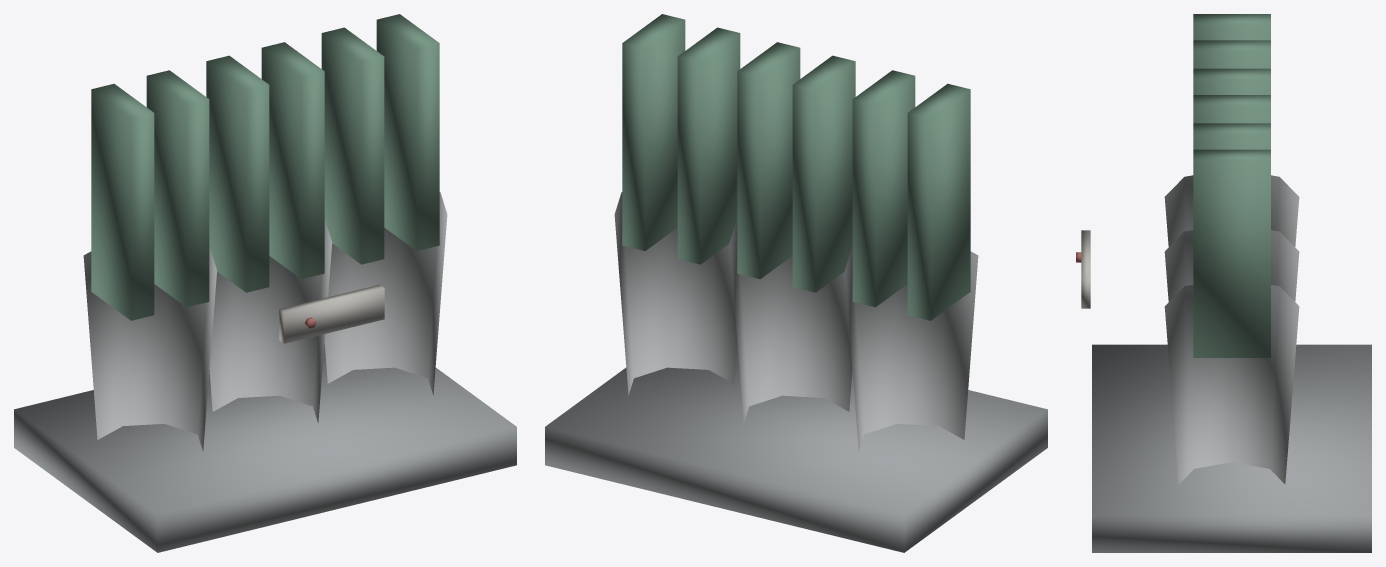
File: flower_bucket_rack.glb
The picture shows the model from 3 angles, left to right: view 1: azimuth 30°, elevation 25°; view 2: azimuth 150°, elevation 25°; view 3: azimuth 270°, elevation 25°; orthographic projection. The views are drawn at different scales.
Parts seen in each view (by area): view 1: world; view 2: world; view 3: world.
Boxes of the visible parts, x1=… form: world: x1=14, y1=14, x2=516, y2=552; world: x1=545, y1=14, x2=1047, y2=552; world: x1=1076, y1=14, x2=1371, y2=552.
Bounding box in the file's own units: 0.78 × 0.81 × 0.571.
